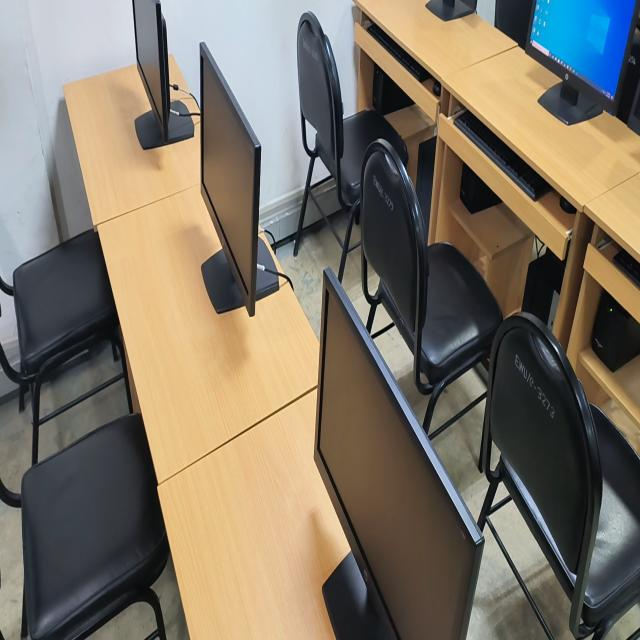Chair: (491, 314, 640, 612), (17, 420, 158, 640), (366, 146, 497, 362), (295, 9, 409, 200), (0, 228, 102, 384)
Cpu: (522, 252, 560, 323)
Monitor: (310, 281, 475, 640), (198, 42, 281, 313), (528, 0, 640, 126), (129, 0, 193, 148)
